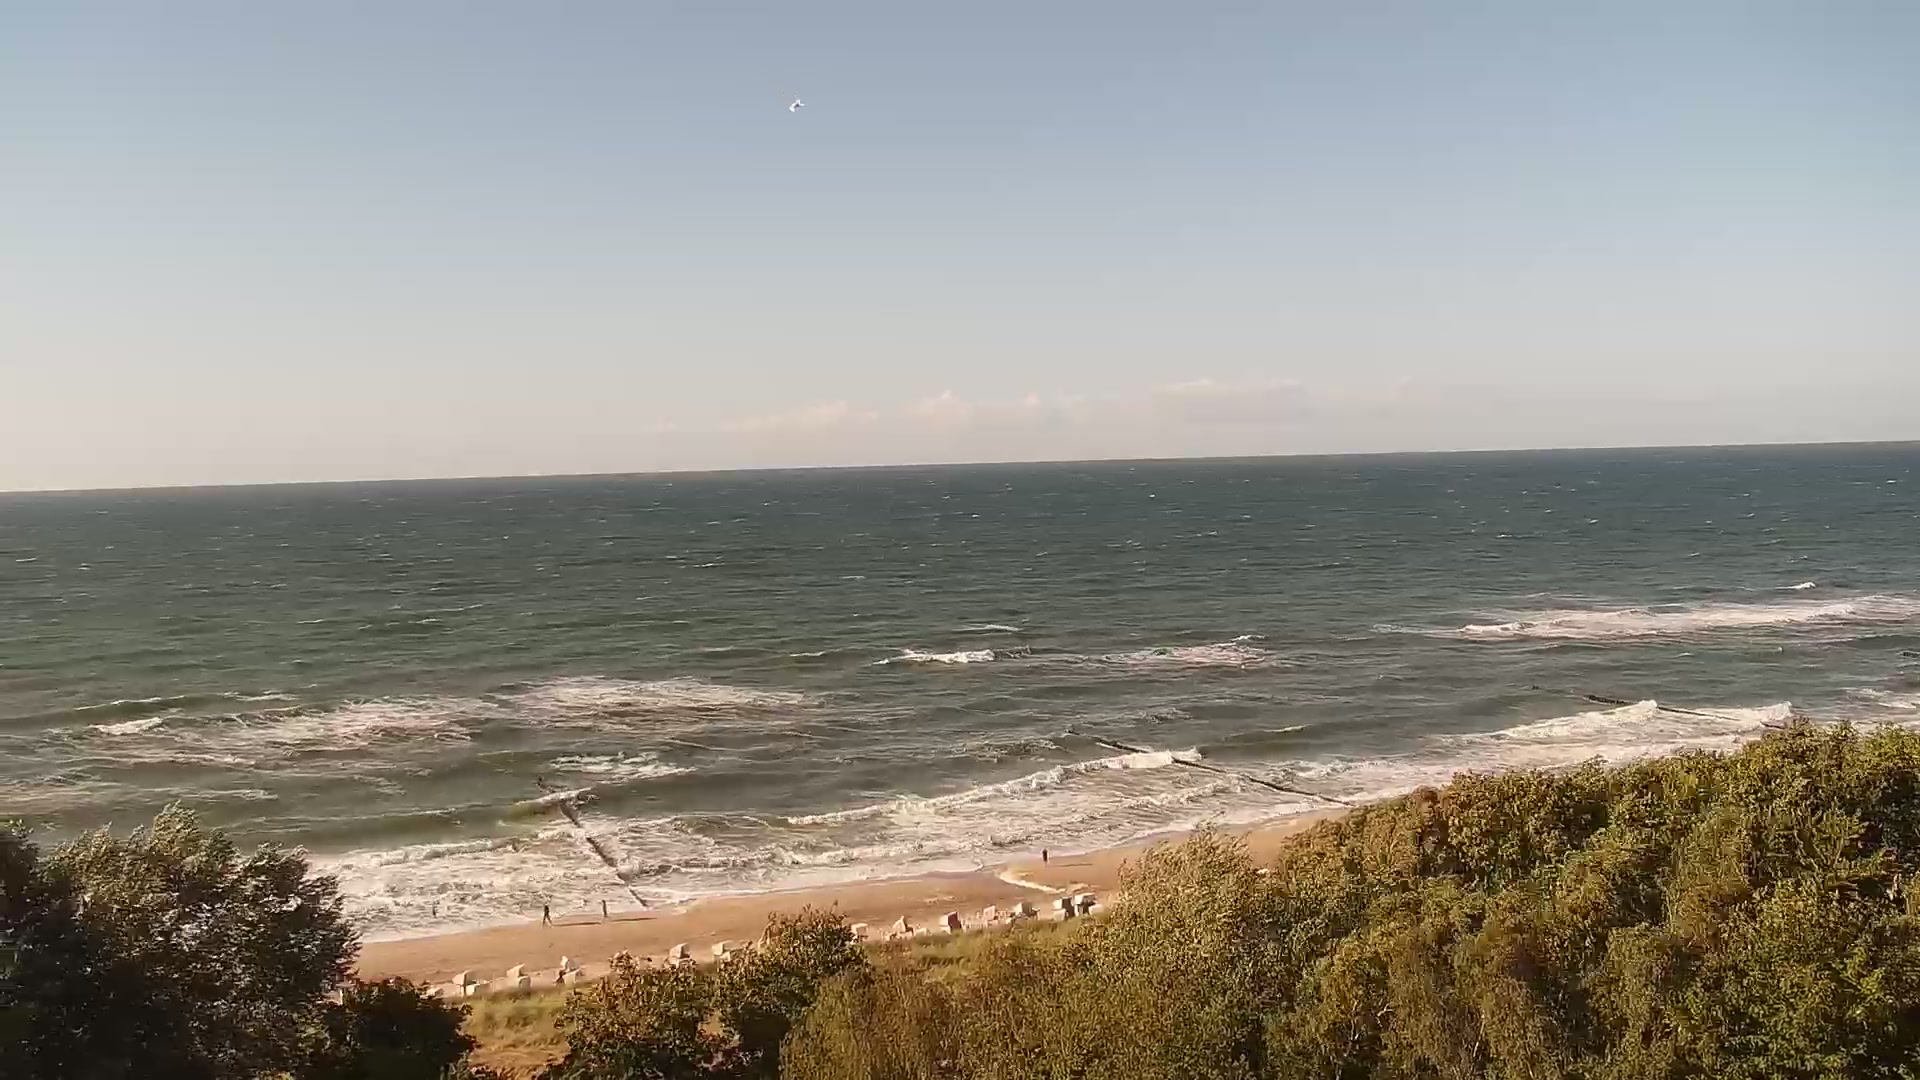human: (542, 902, 553, 926), (601, 898, 609, 917), (1042, 847, 1049, 866)
